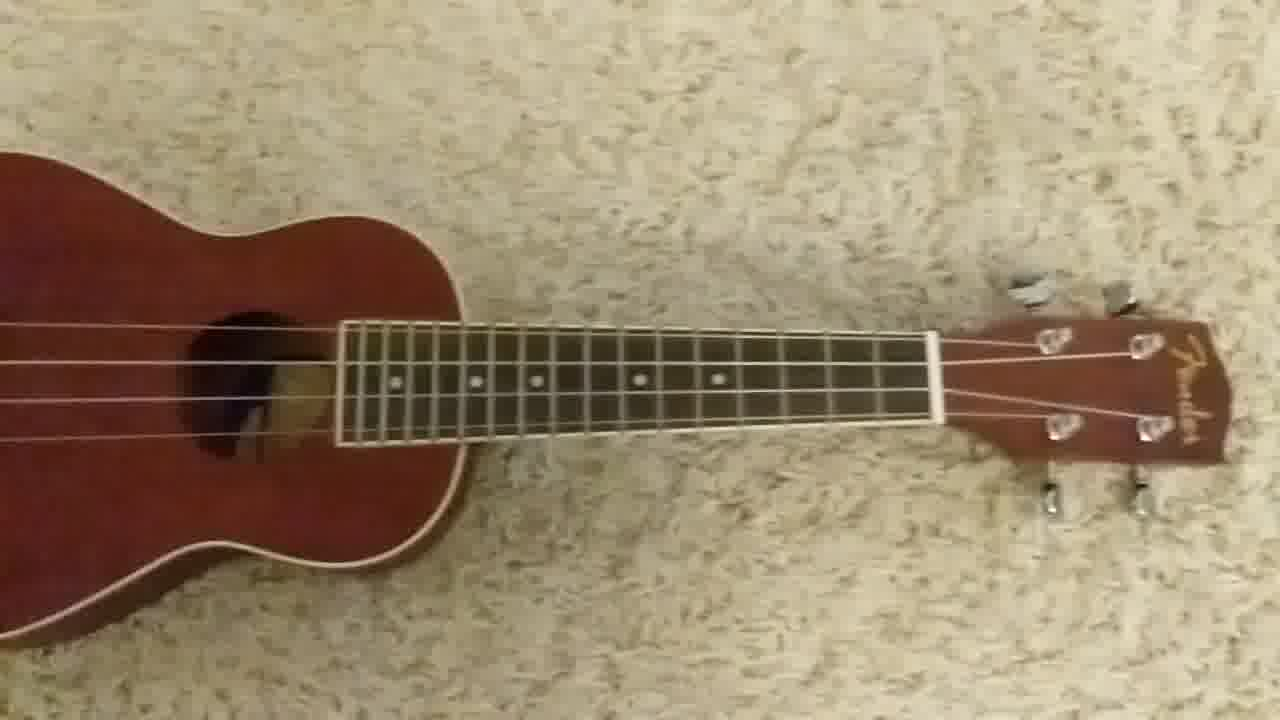Body: (1, 149, 477, 648)
Headstock: (937, 271, 1234, 520)
